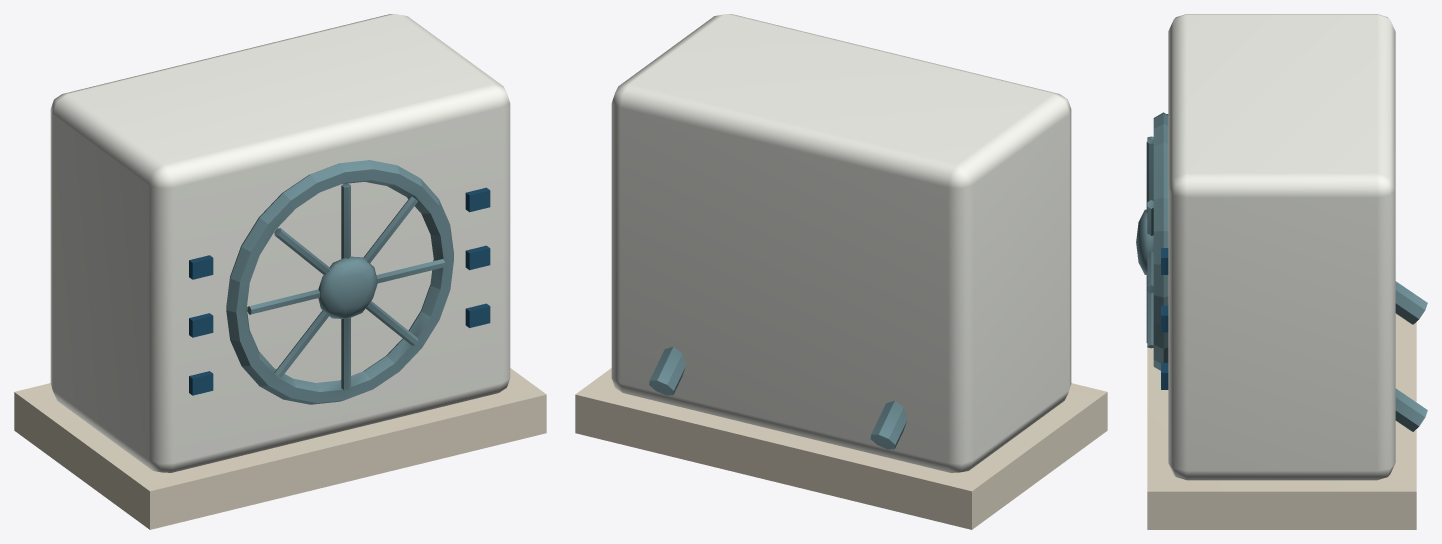
File: heat-pump.glb
3 renders of one model, left to right at view 1: azimuth 30°, elevation 25°; view 2: azimuth 150°, elevation 25°; view 3: azimuth 270°, elevation 25°, orthographic.
Parts seen in each view (by area): view 1: heat pump case, heat pump plinth, fan surround, side inlet; view 2: heat pump case, heat pump plinth, fan surround; view 3: heat pump case, heat pump plinth, fan surround, side inlet.
Boxes of the visible parts, x1,y1,x2,y2 form: heat pump case: [50, 14, 510, 472]; heat pump plinth: [14, 368, 546, 529]; fan surround: [226, 160, 453, 404]; side inlet: [189, 187, 490, 395]; heat pump case: [611, 14, 1071, 472]; heat pump plinth: [575, 368, 1107, 529]; fan surround: [649, 346, 907, 449]; heat pump case: [1168, 14, 1395, 480]; heat pump plinth: [1147, 313, 1416, 529]; fan surround: [1136, 112, 1427, 431]; side inlet: [1161, 114, 1168, 389].
Size of the model in its own units: 0.86 by 0.71 by 0.5522.
